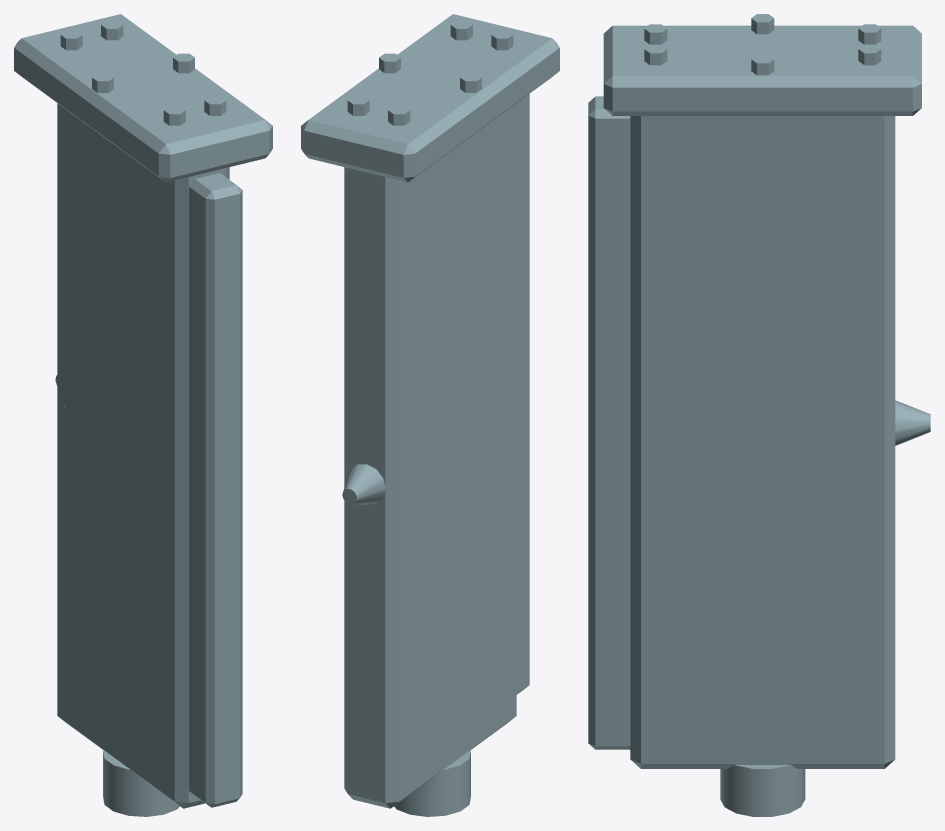
Rendered from hf_strut.glb.
3 renders of one model, left to right at view 1: azimuth 30°, elevation 25°; view 2: azimuth 150°, elevation 25°; view 3: azimuth 270°, elevation 25°, orthographic. The views are drawn at different scales.
Visible parts, largest first — view 1: hf_strut; view 2: hf_strut; view 3: hf_strut.
Boxes of the visible parts, bbox=[...] form: hf_strut: bbox=[14, 14, 272, 816]; hf_strut: bbox=[301, 14, 559, 816]; hf_strut: bbox=[588, 14, 930, 816].
Size of the model in its own units: 0.155 by 0.95 by 0.3875.
